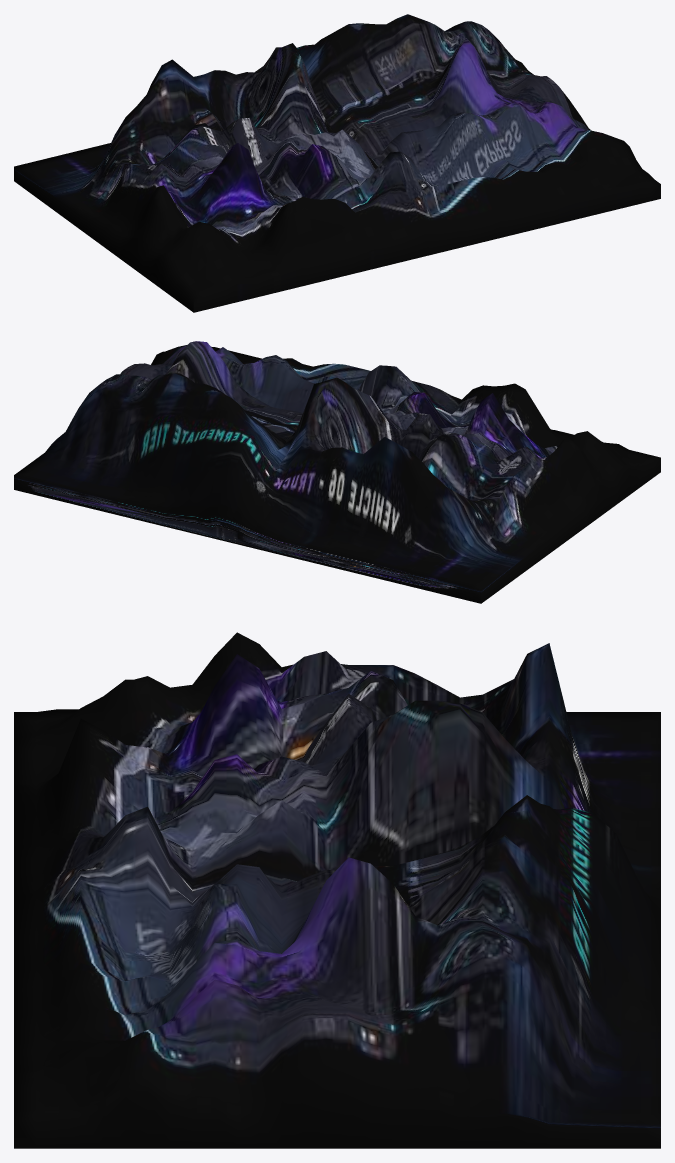
File: VEHICLE_06_Truck.glb
The picture shows the model from 3 angles, top to bottom: view 1: azimuth 30°, elevation 25°; view 2: azimuth 150°, elevation 25°; view 3: azimuth 270°, elevation 25°; orthographic projection. The views are drawn at different scales.
Parts seen in each view (by area): view 1: VEHICLE_06_Truck; view 2: VEHICLE_06_Truck; view 3: VEHICLE_06_Truck.
Part boxes in pixels (<box>): VEHICLE_06_Truck: <box>14,14,660,312</box>; VEHICLE_06_Truck: <box>14,341,660,603</box>; VEHICLE_06_Truck: <box>14,632,660,1148</box>.
Bounding box in the file's own units: 2 × 0.51 × 1.33.
1 material, 1 textured.
